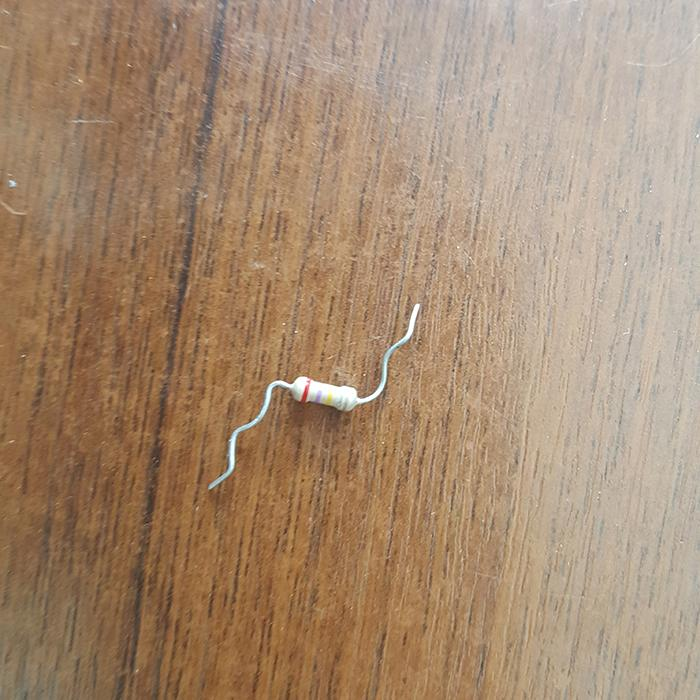resistor: (289, 375, 358, 412)
